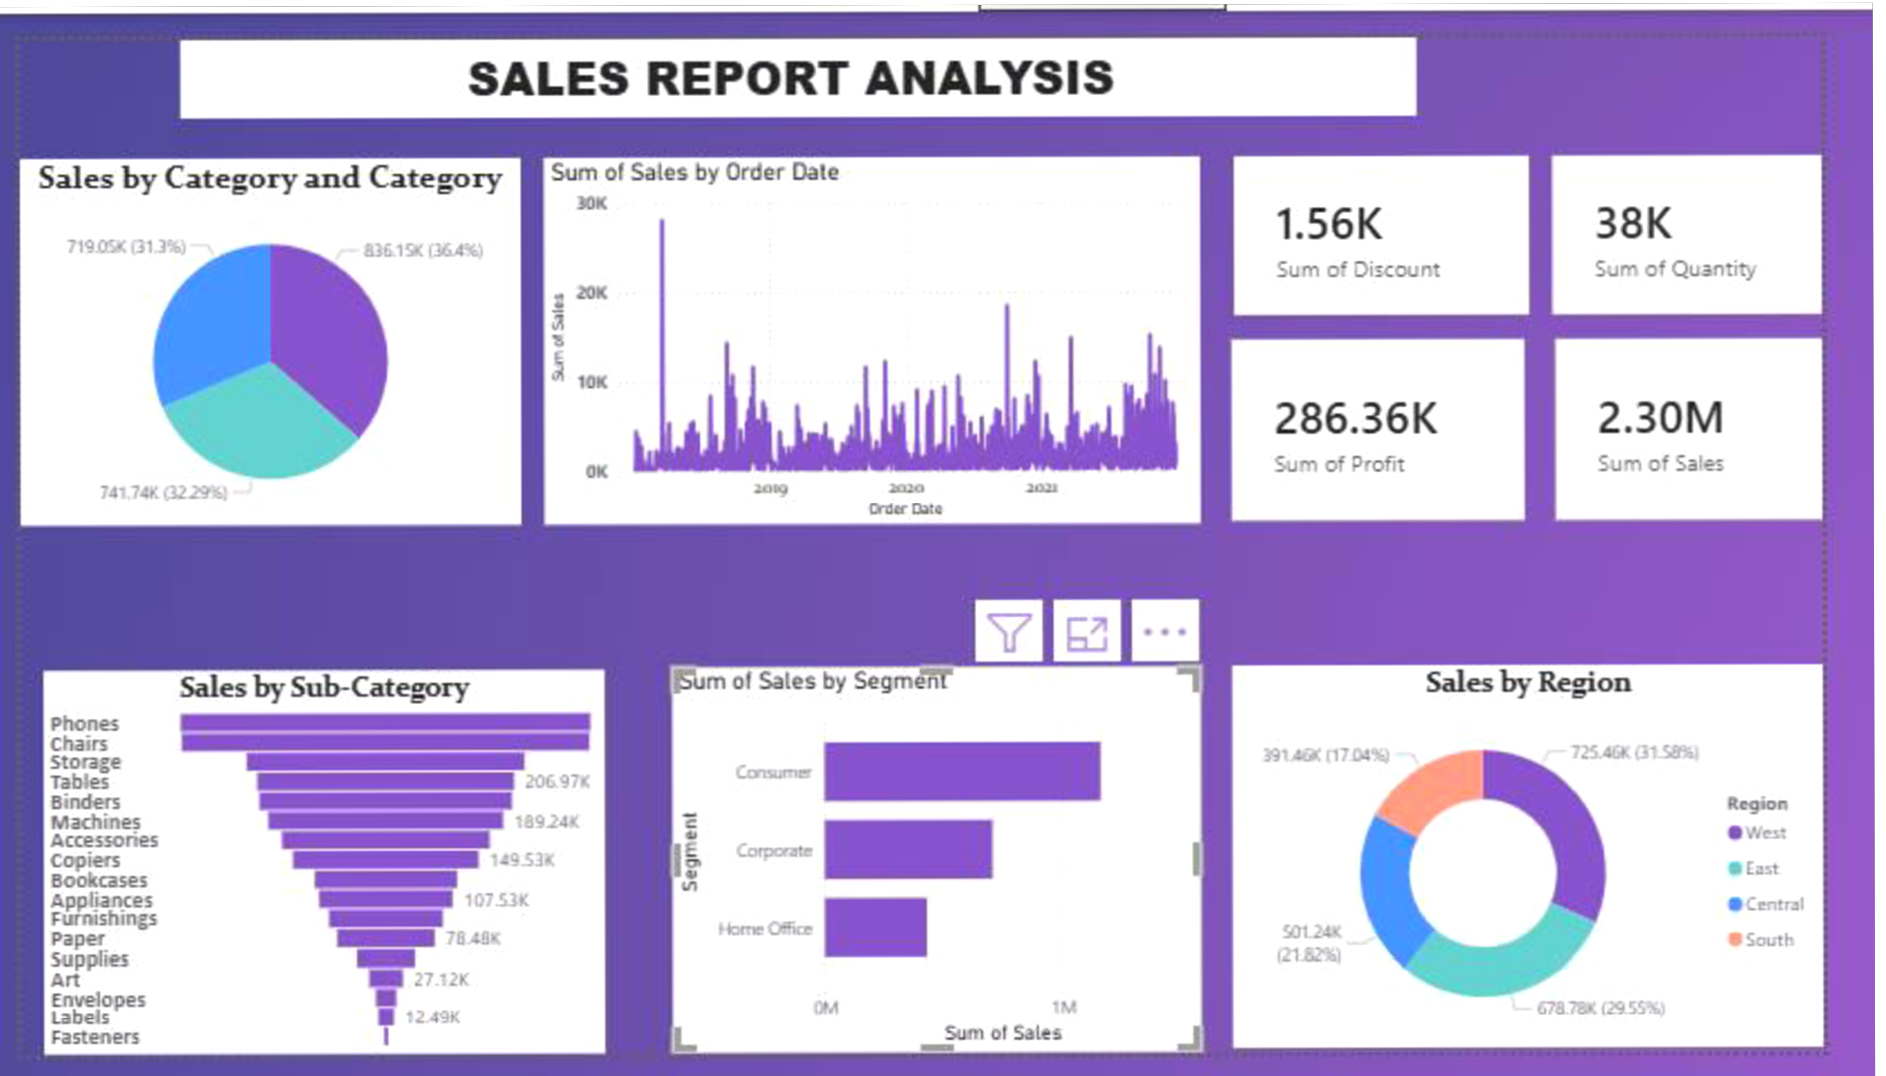

Layout of this report page (visuals, bound fields, positions):
{"tool":"powerbi","page":{"name":"Page 1","canvas":[1280,720],"ordinal":0},"visuals":[{"type":"donutChart","title":"Sales by Region","fields":{"Category":["Orders.Region"],"Y":["Sum(Orders.Sales)"]},"box":[859.8,446.6,421.1,271.5],"z":0},{"type":"funnel","title":" Sales by Sub-Category","fields":{"Category":["Orders.Sub-Category"],"Y":["Sum(Orders.Sales)"]},"box":[16.8,447.3,398.4,272.6],"z":1},{"type":"barChart","fields":{"Category":["Orders.Segment"],"Y":["Sum(Orders.Sales)"]},"box":[462.4,446.6,375.8,273.5],"z":2},{"type":"pieChart","title":"Sales by Category and Category","fields":{"Category":["Orders.Category"],"Y":["Sum(Orders.Sales)"]},"box":[0,83.2,355.9,261.1],"z":5},{"type":"lineChart","fields":{"Category":["Orders.Order Date"],"Y":["Sum(Orders.Sales)"]},"box":[372.5,83.2,465.7,261.1],"z":6},{"type":"cardVisual","fields":{"Data":["Sum(Orders.Quantity)"]},"box":[1087.6,83.2,191.3,113.1],"z":8},{"type":"cardVisual","fields":{"Data":["Sum(Orders.Profit)"]},"box":[859.8,214.5,207.9,129.7],"z":9},{"type":"cardVisual","fields":{"Data":["Sum(Orders.Sales)"]},"box":[1089.3,214.5,191.3,129.7],"z":10},{"type":"cardVisual","fields":{"Data":["Sum(Orders.Discount)"]},"box":[861.5,83.2,209.5,113.1],"z":11},{"type":"textbox","box":[114.6,0,877.9,55.9],"z":12}]}

Visuals, with their boxes in screenshot pixels (x1, y1, x2, y2), scaled from the page's 1280x720 canvas onto the 1886x1076 screenshot:
"Sales by Region" donutChart: (left=1267, top=667, right=1885, bottom=1073)
" Sales by Sub-Category" funnel: (left=25, top=668, right=612, bottom=1075)
barChart - Orders.Segment x Sum(Orders.Sales): (left=681, top=667, right=1235, bottom=1075)
"Sales by Category and Category" pieChart: (left=0, top=124, right=524, bottom=515)
lineChart - Orders.Order Date x Sum(Orders.Sales): (left=549, top=124, right=1235, bottom=515)
cardVisual - Sum(Orders.Quantity): (left=1603, top=124, right=1884, bottom=293)
cardVisual - Sum(Orders.Profit): (left=1267, top=321, right=1573, bottom=514)
cardVisual - Sum(Orders.Sales): (left=1605, top=321, right=1885, bottom=514)
cardVisual - Sum(Orders.Discount): (left=1269, top=124, right=1578, bottom=293)
textbox: (left=169, top=0, right=1462, bottom=84)
